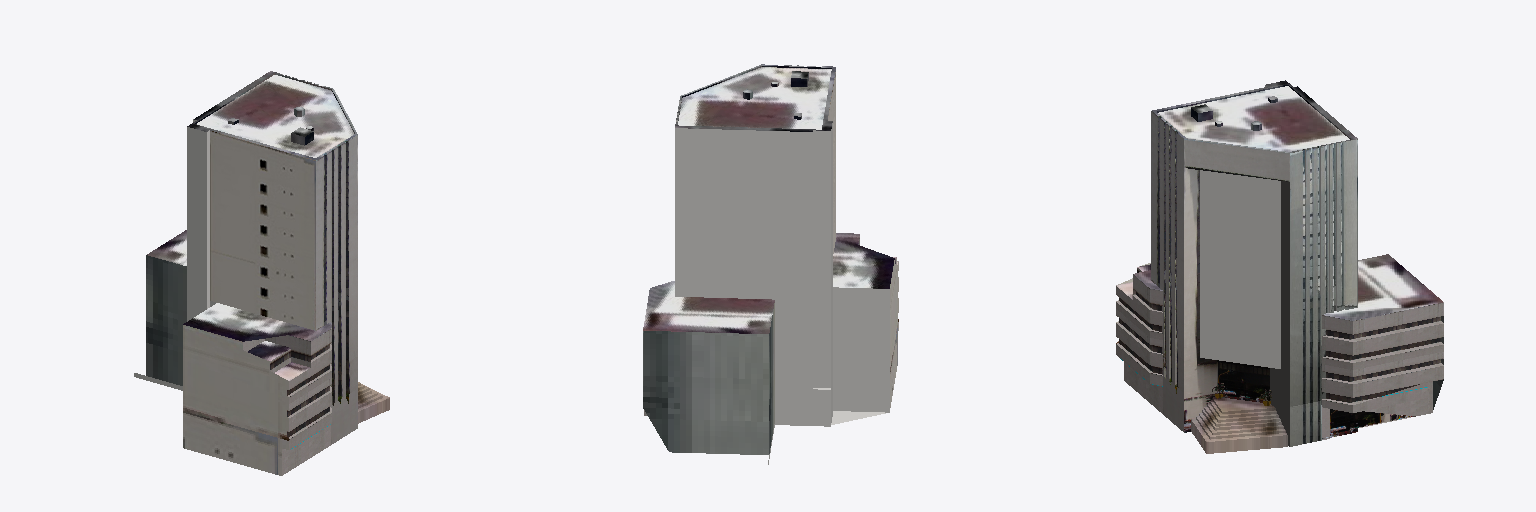
The picture shows the model from 3 angles: view 1: azimuth 30°, elevation 25°; view 2: azimuth 150°, elevation 25°; view 3: azimuth 270°, elevation 25°; orthographic projection.
Parts seen in each view (by area): view 1: Mesh5 Model; view 2: Mesh5 Model; view 3: Mesh5 Model.
Boxes of the visible parts, x1,y1,x2,y2 form: Mesh5 Model: [134, 71, 389, 475]; Mesh5 Model: [643, 64, 898, 464]; Mesh5 Model: [1116, 80, 1443, 453].
Bounding box in the file's own units: 37.04 × 54.69 × 53.98.
Materials: 16 (14 with a texture image).